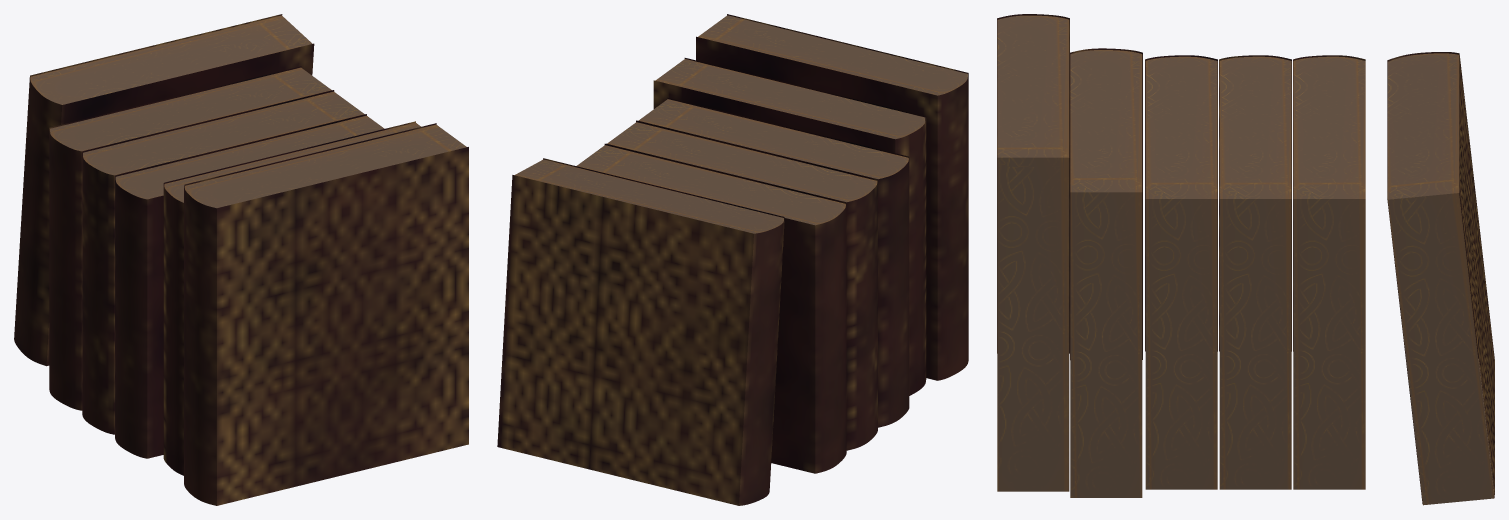
Rendered from SM_BookPile9.fbx.
3 renders of one model, left to right at view 1: azimuth 30°, elevation 25°; view 2: azimuth 150°, elevation 25°; view 3: azimuth 270°, elevation 25°, orthographic. The views are drawn at different scales.
Parts seen in each view (by area): view 1: SM_BookPile9_LOD0; view 2: SM_BookPile9_LOD0; view 3: SM_BookPile9_LOD0.
Part boxes in pixels (x1,y1,x2,y2): SM_BookPile9_LOD0: [14, 14, 468, 505]; SM_BookPile9_LOD0: [497, 14, 968, 505]; SM_BookPile9_LOD0: [997, 14, 1494, 505].
Size of the model in its own units: 36.56 by 49.59 by 37.24.
1 material, 1 textured.
